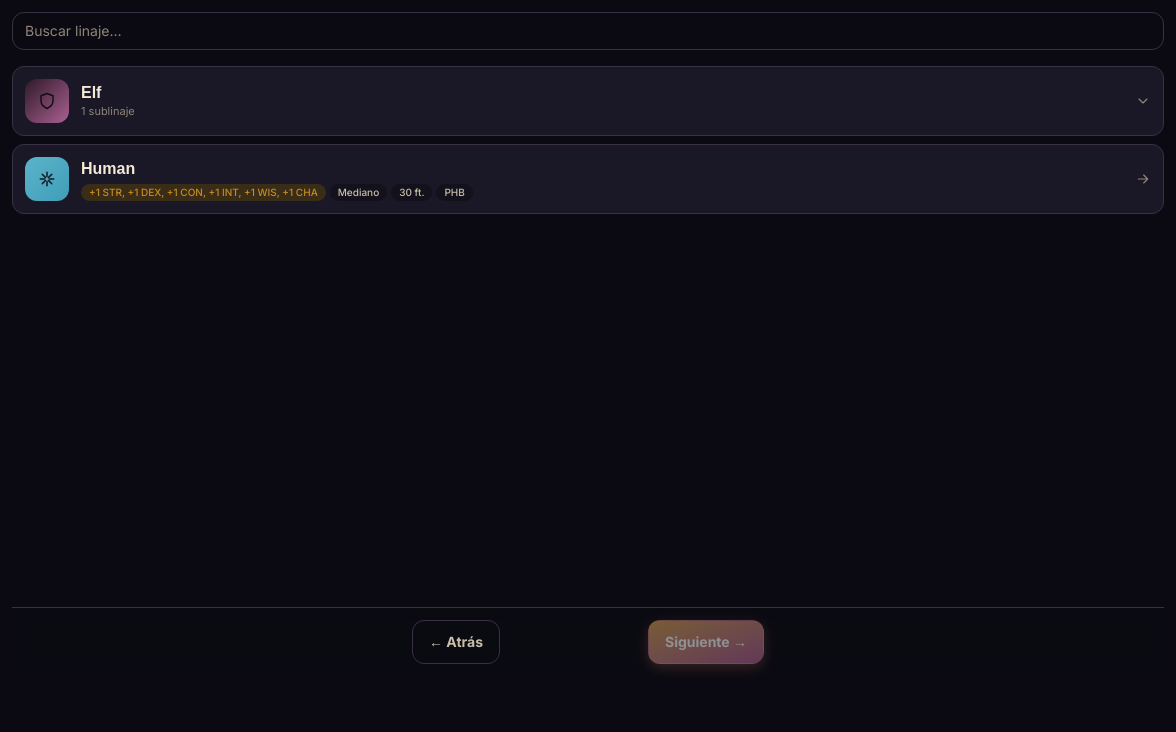
Scenario: W-E4: search behavior — orphan groups auto-expand, matching parents stay closed › searching "high" auto-expands the Elf group (orphan: parent name did not match) and shows High Elf
This screenshot has width=1176, height=732.
Type "high" into the search field with placeholder "Buscar linaje…" at [588, 31], box [12,12,1164,50]
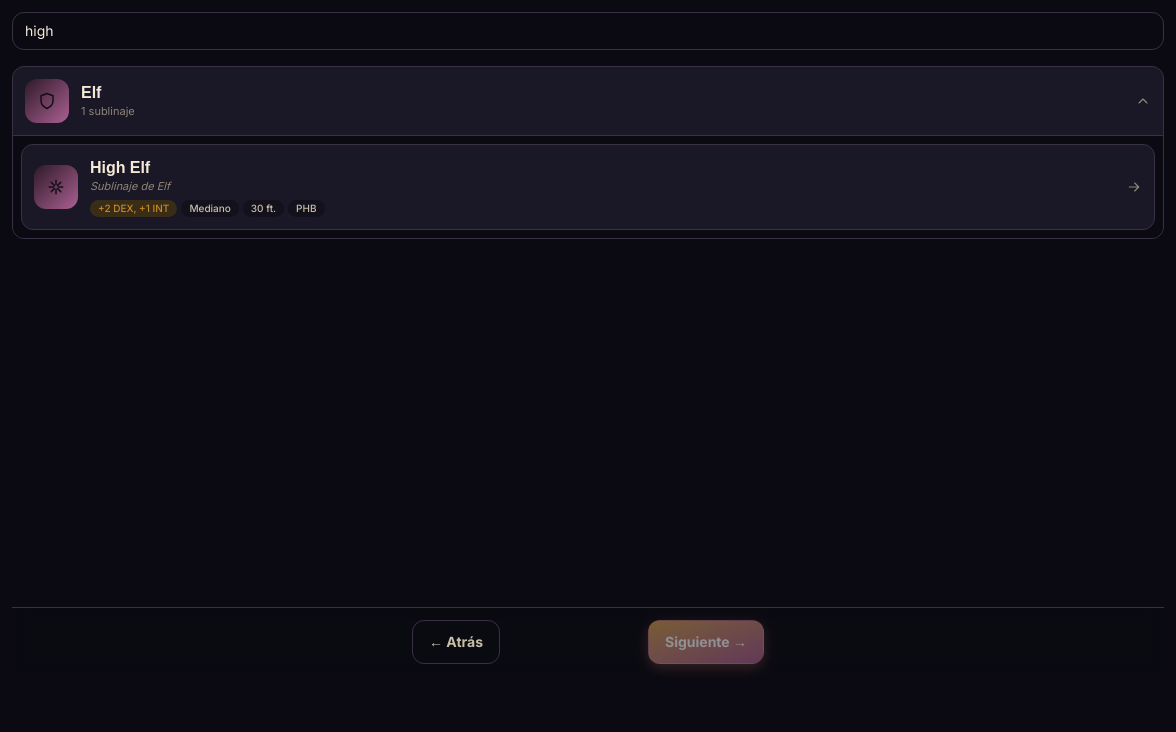
Check: the text "High Elf" is shown, box [90,156,150,178]
